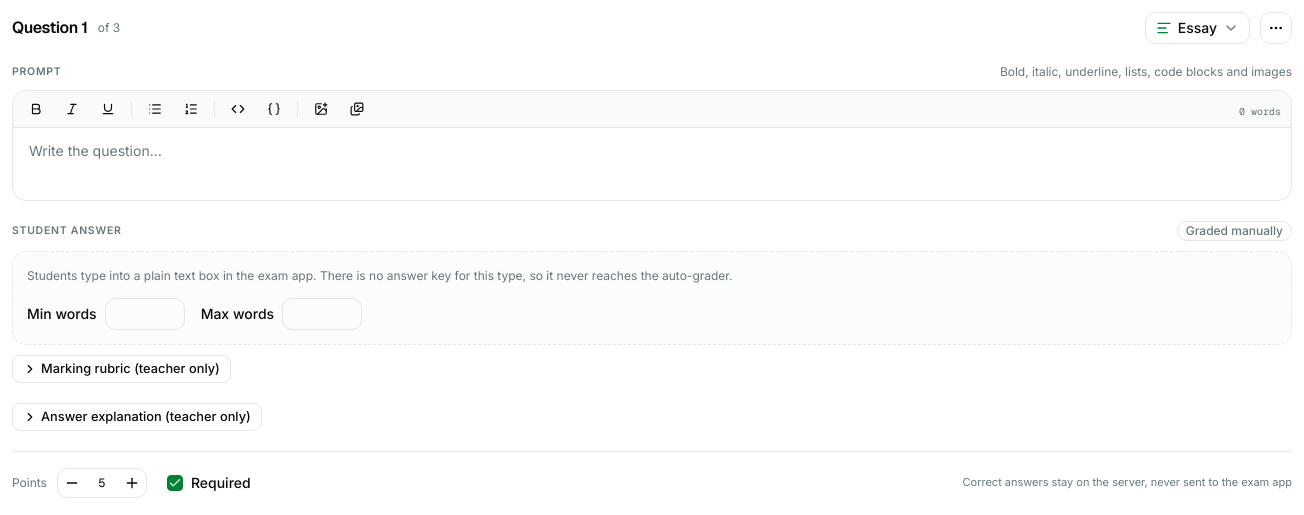
Test: type menu › names every kind, spelling out the two that share a short label
Click the button "Essay" at (1197, 28), box [1145,12,1250,44]
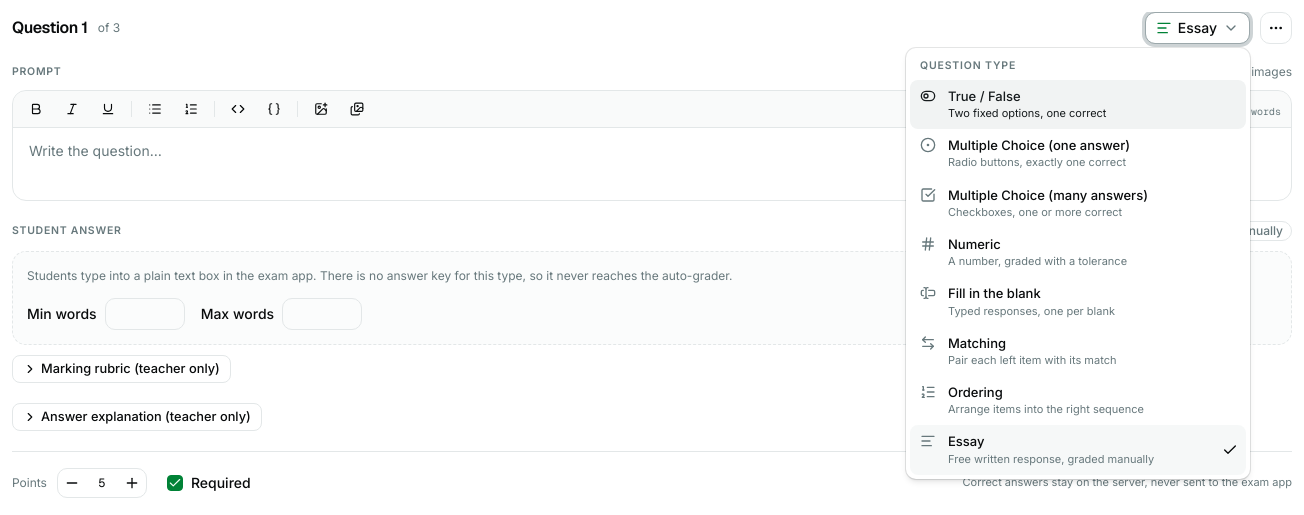
Check: the text "Question type" is shown, box [920,59,1016,72]
Check: the text "True / False" is shown, box [948,88,1021,104]
Check: the text "Multiple Choice (one answer)" is shown, box [948,137,1130,153]
